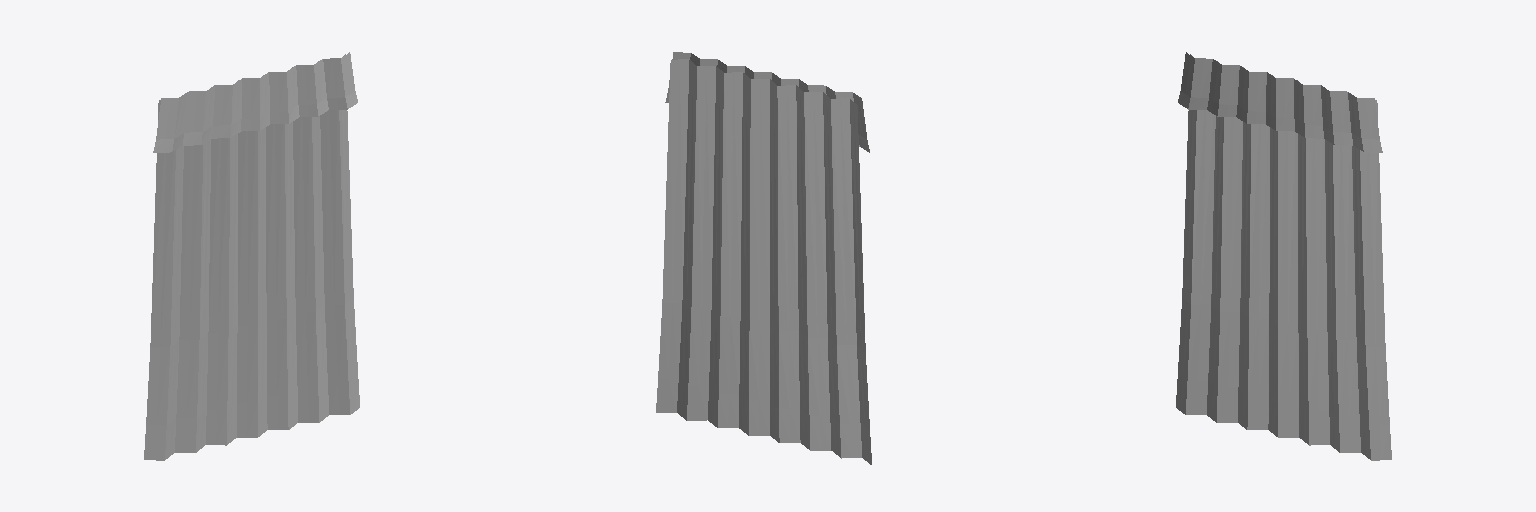
The model's file is Curtains.obj.
The picture shows the model from 3 angles: view 1: azimuth 30°, elevation 25°; view 2: azimuth 150°, elevation 25°; view 3: azimuth 330°, elevation 25°; orthographic projection.
Parts seen in each view (by area): view 1: pPlane4, pPlane5; view 2: pPlane4, pPlane5; view 3: pPlane4, pPlane5.
Boxes of the visible parts, <box> form: pPlane4: <box>144,54,359,460</box>; pPlane5: <box>153,52,357,152</box>; pPlane4: <box>656,59,871,464</box>; pPlane5: <box>665,52,869,152</box>; pPlane4: <box>1176,54,1391,460</box>; pPlane5: <box>1178,52,1382,152</box>.
Size of the model in its own units: 0.6862 by 1.1 by 0.0429.